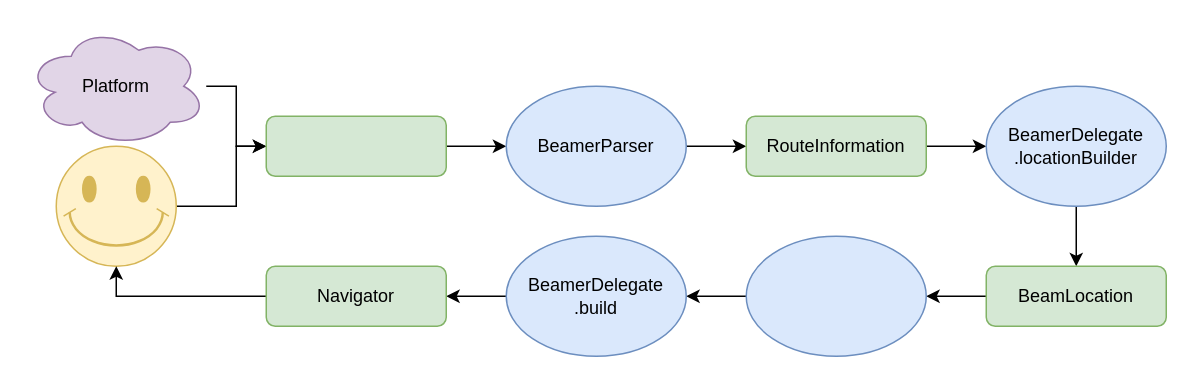
This 1193x383 diagram has some shape labels left out. Each missing label, with the box of its shape:
/my/path: (265, 115, 446, 176)
BeamLocation .buildPages: (745, 235, 926, 356)
User: (55, 145, 176, 266)
